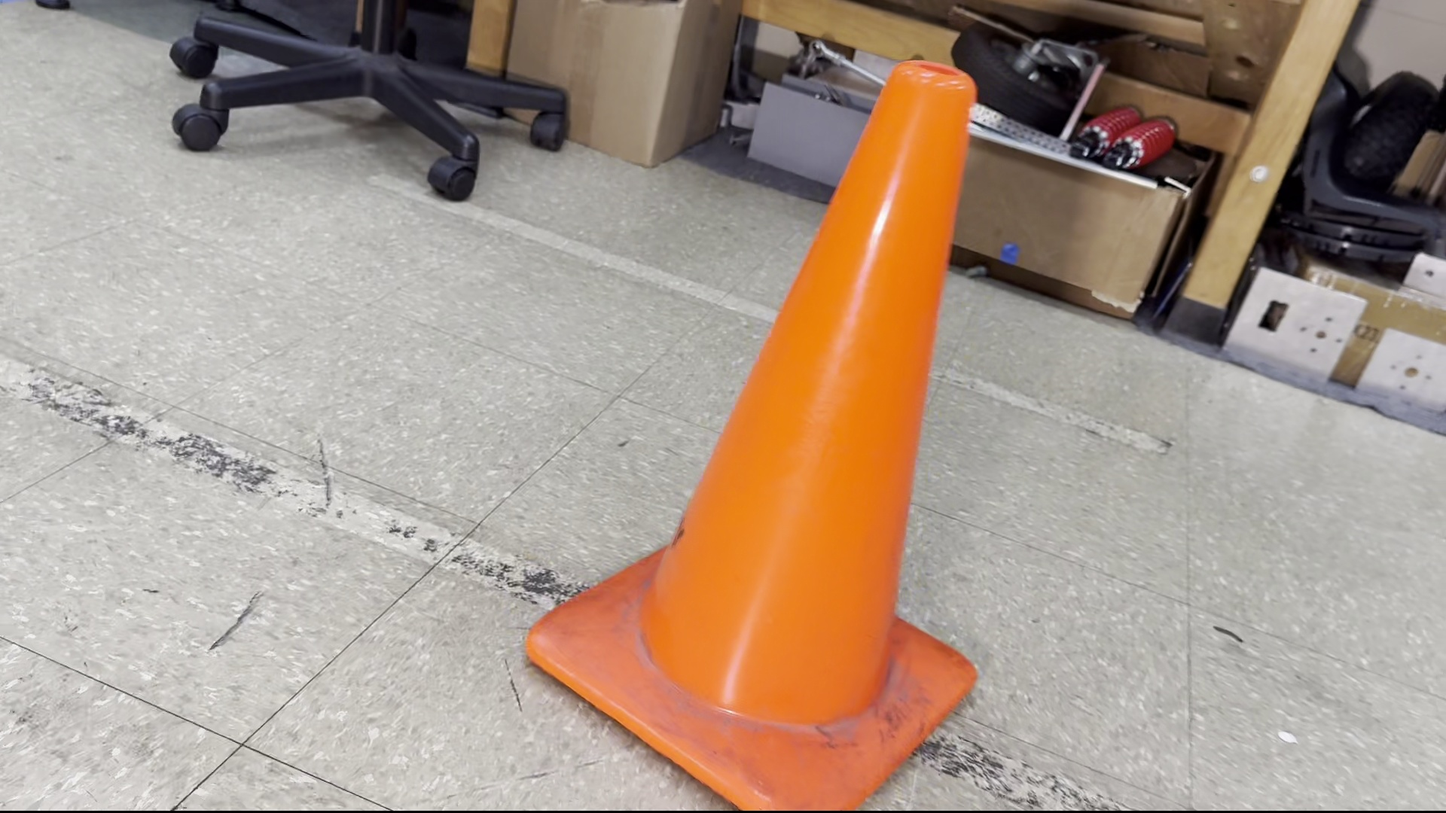traffic_cone: (525, 59, 982, 811)
